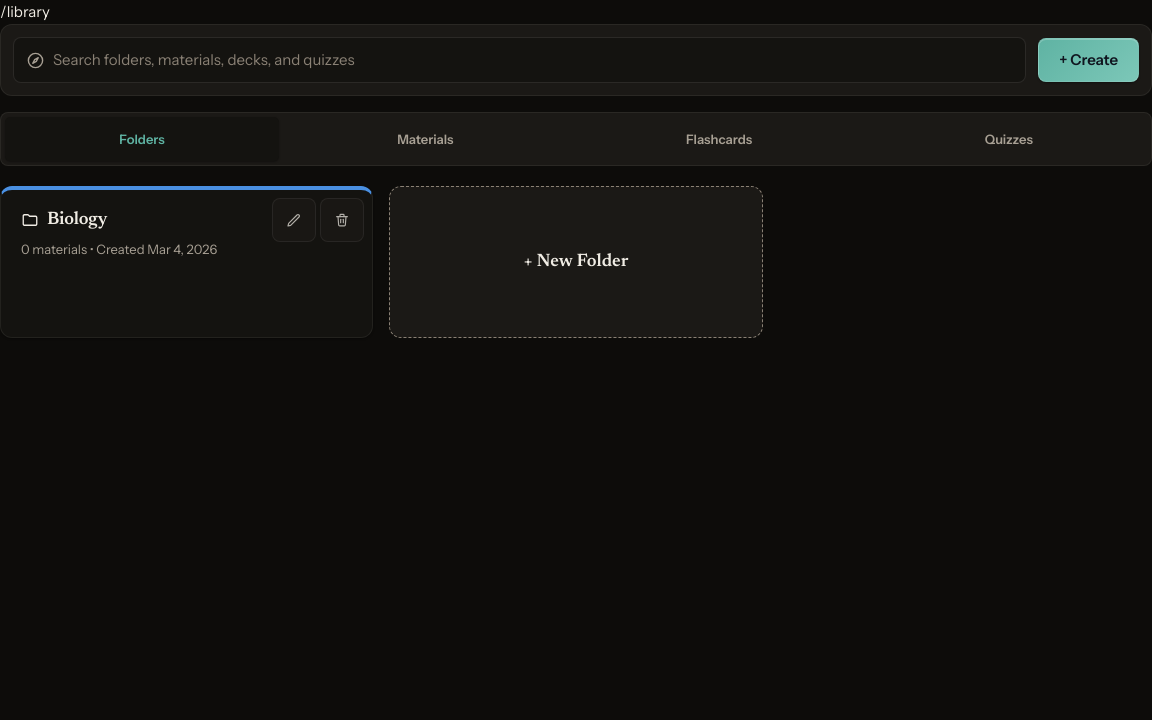
it: Library — Folders tab › does not write when the rename dialog is cancelled
Click the button named "Rename Biology". click: [294, 220]
box: [272,198,316,242]
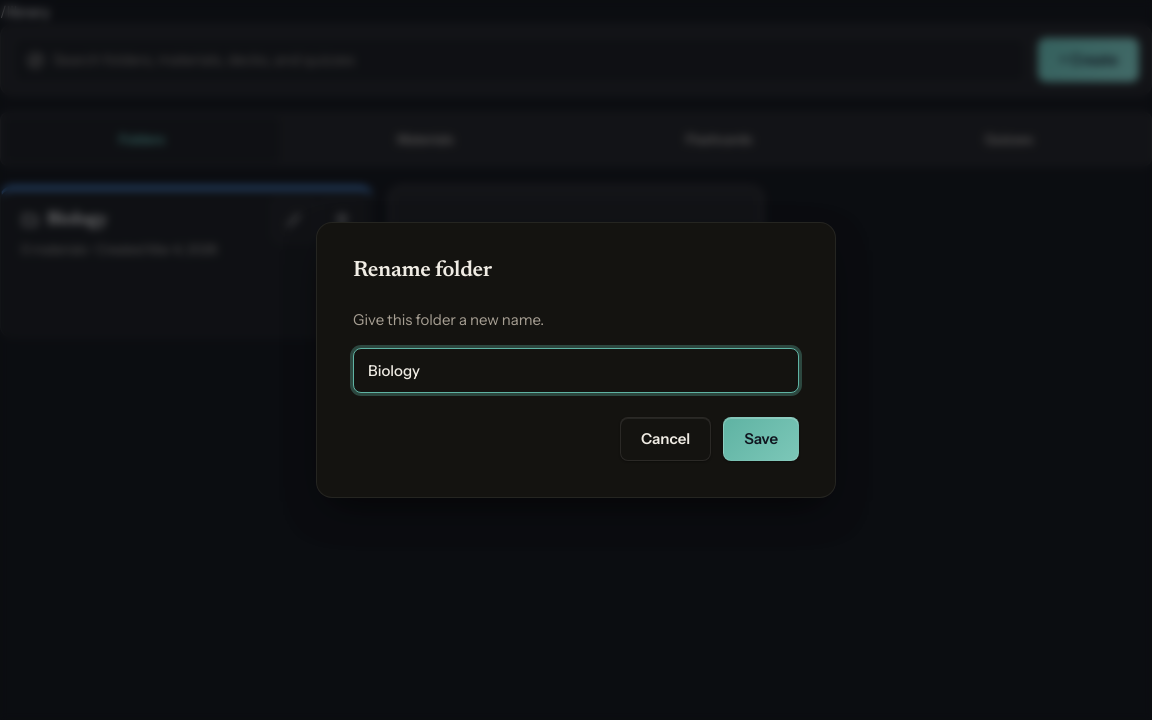
Click the button "Cancel". click: [666, 439]
box: [620,417,711,461]
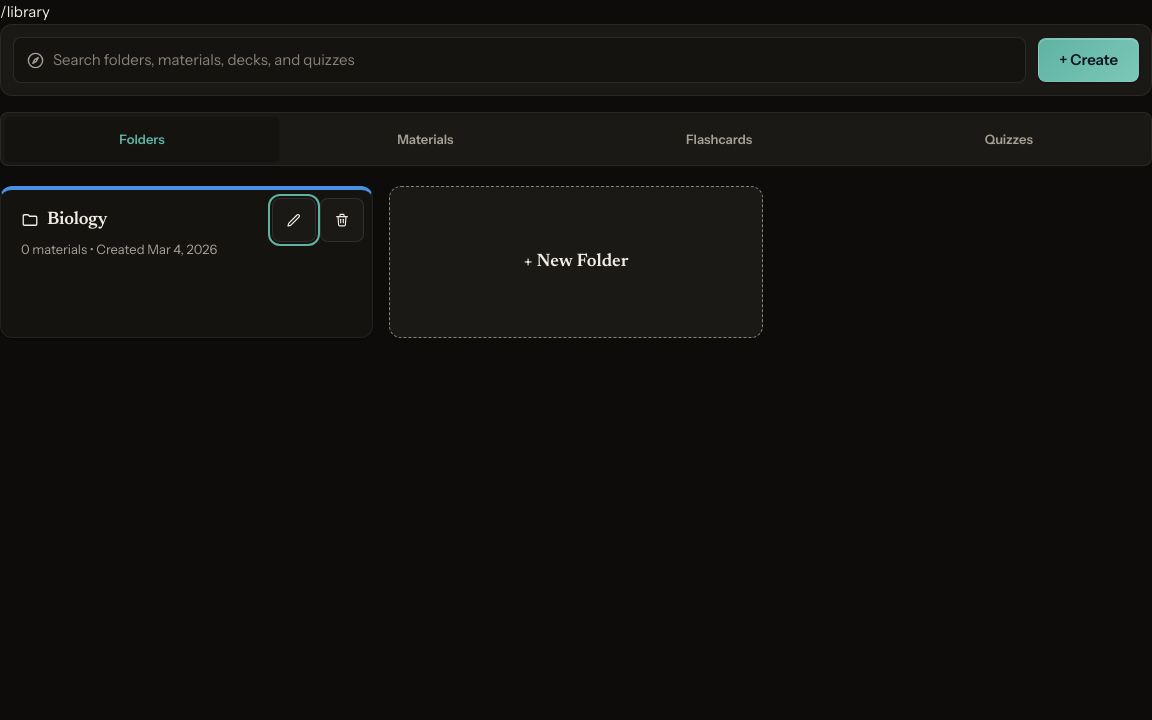
Check: the field is gone
